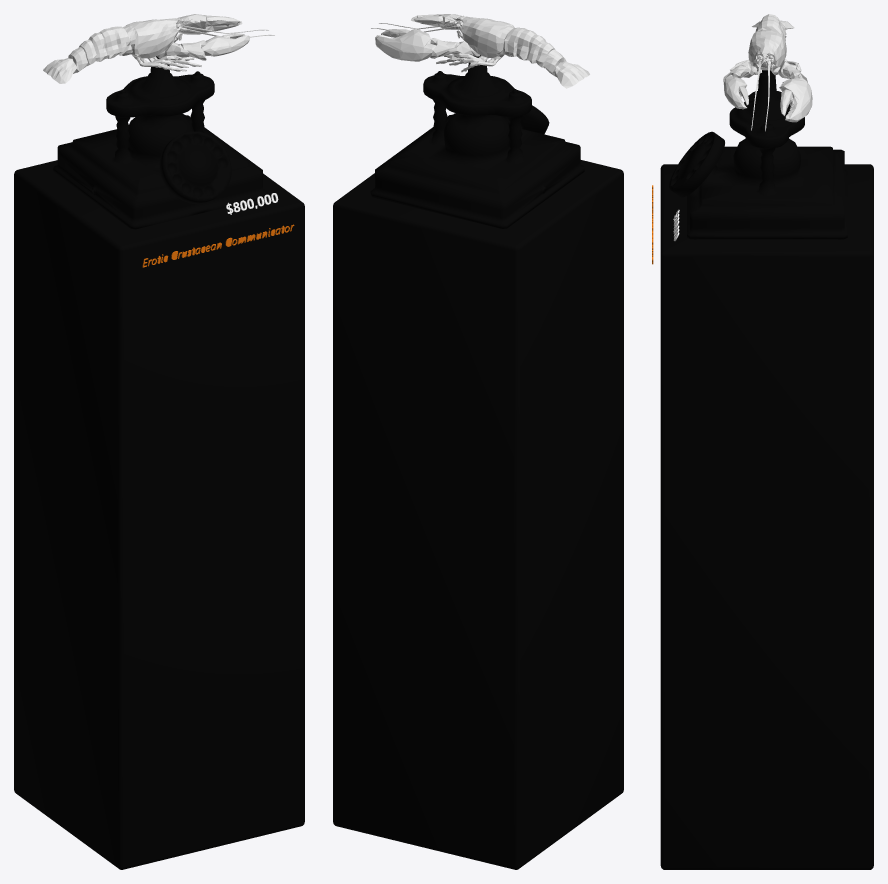
Rendered from Art2.fbx.
3 views of the same model, side by side, from view 1: azimuth 30°, elevation 25°; view 2: azimuth 150°, elevation 25°; view 3: azimuth 270°, elevation 25° (orthographic).
Visible parts, largest first — view 1: Plinth2, Lobster_phone, Lobster_Body_low, Lobster_Claws_low; view 2: Plinth2, Lobster_phone, Lobster_Body_low, Lobster_Claws_low; view 3: Plinth2, Lobster_phone, Lobster_Claws_low, Lobster_Body_low.
Boxes of the visible parts, x1=… form: Plinth2: x1=14, y1=160, x2=304, y2=869; Lobster_phone: x1=53, y1=56, x2=267, y2=229; Lobster_Body_low: x1=43, y1=18, x2=274, y2=83; Lobster_Claws_low: x1=157, y1=14, x2=249, y2=60; Plinth2: x1=333, y1=160, x2=623, y2=869; Lobster_phone: x1=370, y1=55, x2=584, y2=228; Lobster_Body_low: x1=371, y1=15, x2=589, y2=88; Lobster_Claws_low: x1=375, y1=14, x2=480, y2=61; Plinth2: x1=660, y1=164, x2=873, y2=869; Lobster_phone: x1=669, y1=70, x2=847, y2=239; Lobster_Claws_low: x1=723, y1=61, x2=812, y2=122; Lobster_Body_low: x1=748, y1=14, x2=794, y2=131.
Bounding box in the file's own units: 29.16 × 102 × 26.01.
4 materials, 1 textured.
